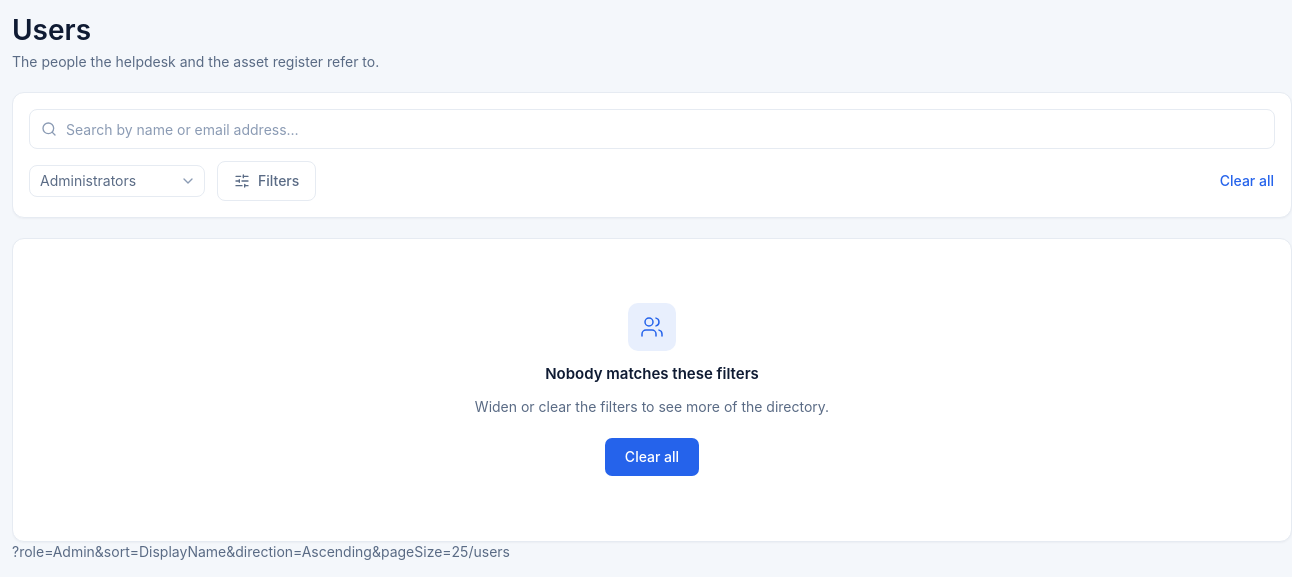
Test: UsersPage › says the filters are what emptied the list, and offers to clear them
The width and height of the screenshot is (1292, 577).
Expected: the text "Nobody matches these filters" is shown, left=545, top=363, right=759, bottom=385
Click the button "Clear all" below "Nobody matches these filters" at coordinates (652, 457), box left=604, top=437, right=700, bottom=477
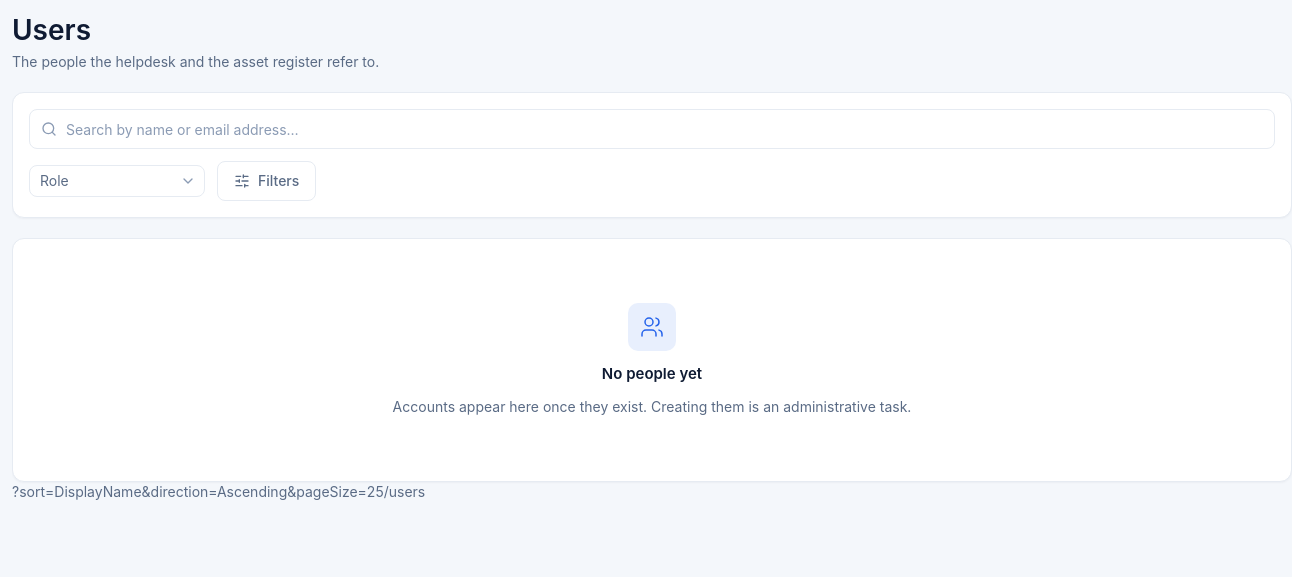
Result: the text with test id "address" no longer shows "role=Admin"
